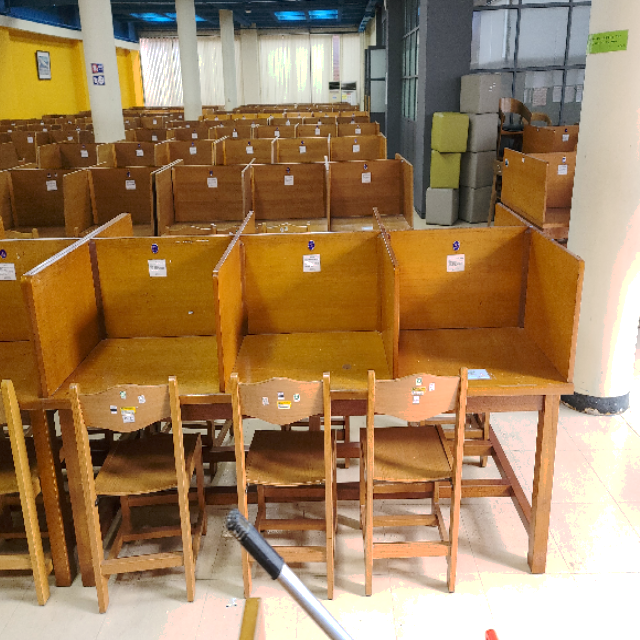empty: (40, 237, 219, 480), (226, 234, 399, 484), (403, 234, 573, 488)
